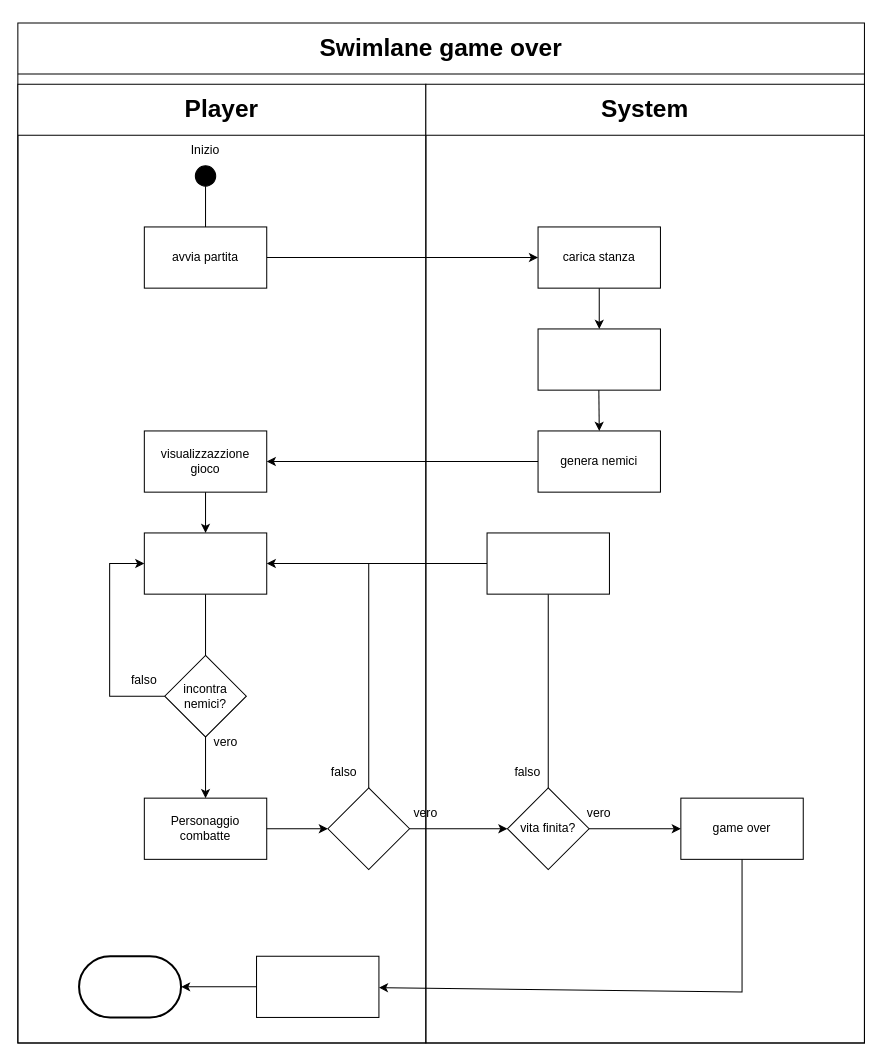
Some shapes in this 882 by 1061 pixel diagram are drawn without their labels. Here are the shapes that lost their labels. From the top down, the centre of each, then its label:
At [598,359]: "genera personaggio".
At [205,563]: "Personaggio si muove".
At [547,563]: "Aggiorna vita".
At [368,828]: "perde vita?".
At [130,986]: "Fine".
At [317,986]: "notifica game over".
